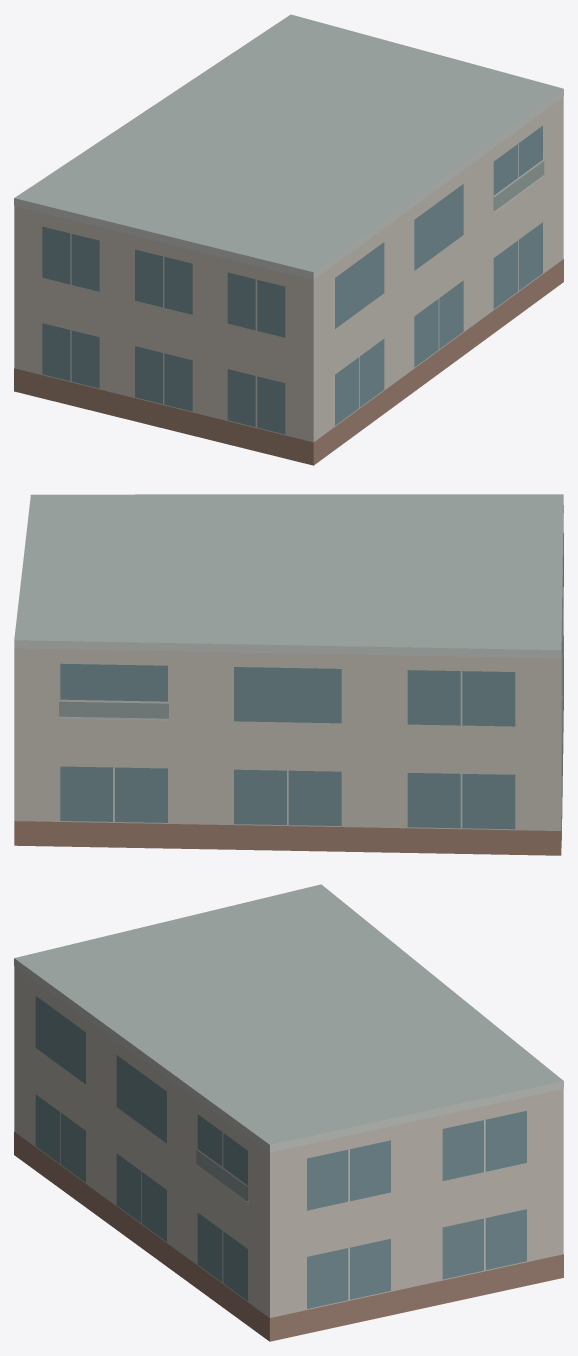
File: survey-upis-32640499.glb
The picture shows the model from 3 angles, top to bottom: view 1: azimuth 30°, elevation 25°; view 2: azimuth 150°, elevation 25°; view 3: azimuth 270°, elevation 25°; orthographic projection. The views are drawn at different scales.
Parts seen in each view (by area): view 1: survey-upis-32640499.tmp; view 2: survey-upis-32640499.tmp; view 3: survey-upis-32640499.tmp.
Part boxes in pixels (x1,y1,x2,y2): survey-upis-32640499.tmp: (14, 14, 563, 465); survey-upis-32640499.tmp: (14, 494, 563, 855); survey-upis-32640499.tmp: (14, 884, 563, 1341).
Size of the model in its own units: 17.33 by 6.1 by 15.45.
